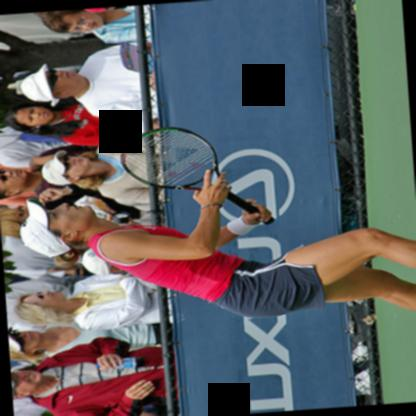backpack: (16, 131, 68, 142)
